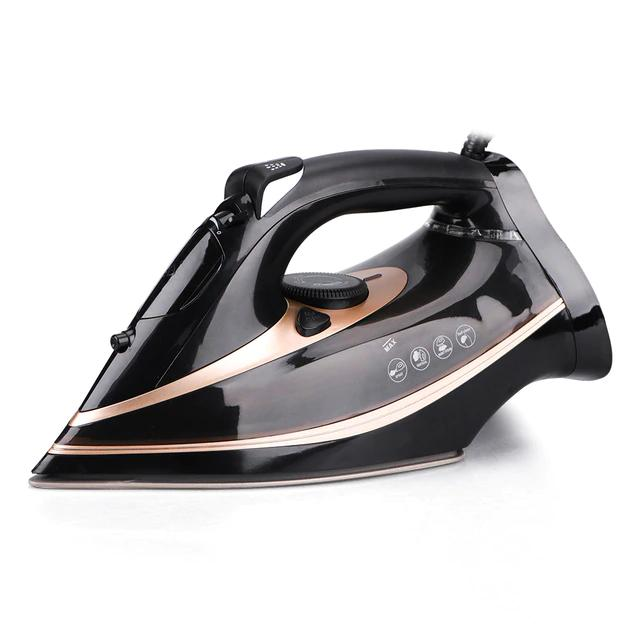Clothes-Iron: (21, 121, 626, 511)
